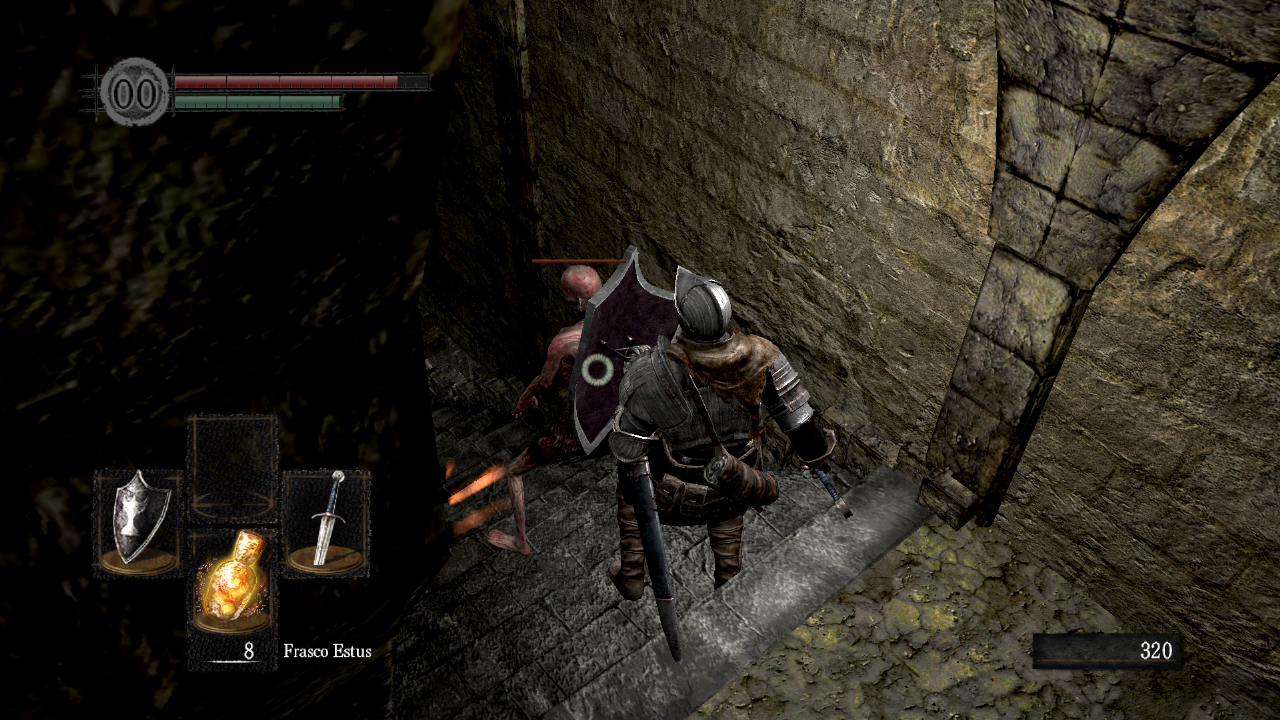hollow: (487, 265, 617, 556)
player: (570, 242, 855, 661)
